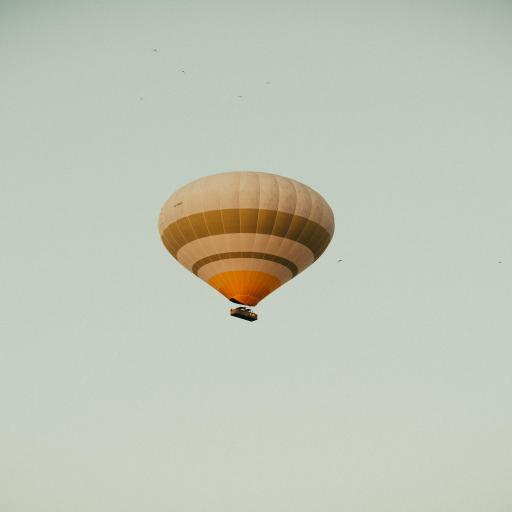hot air ballon: (156, 169, 338, 324)
